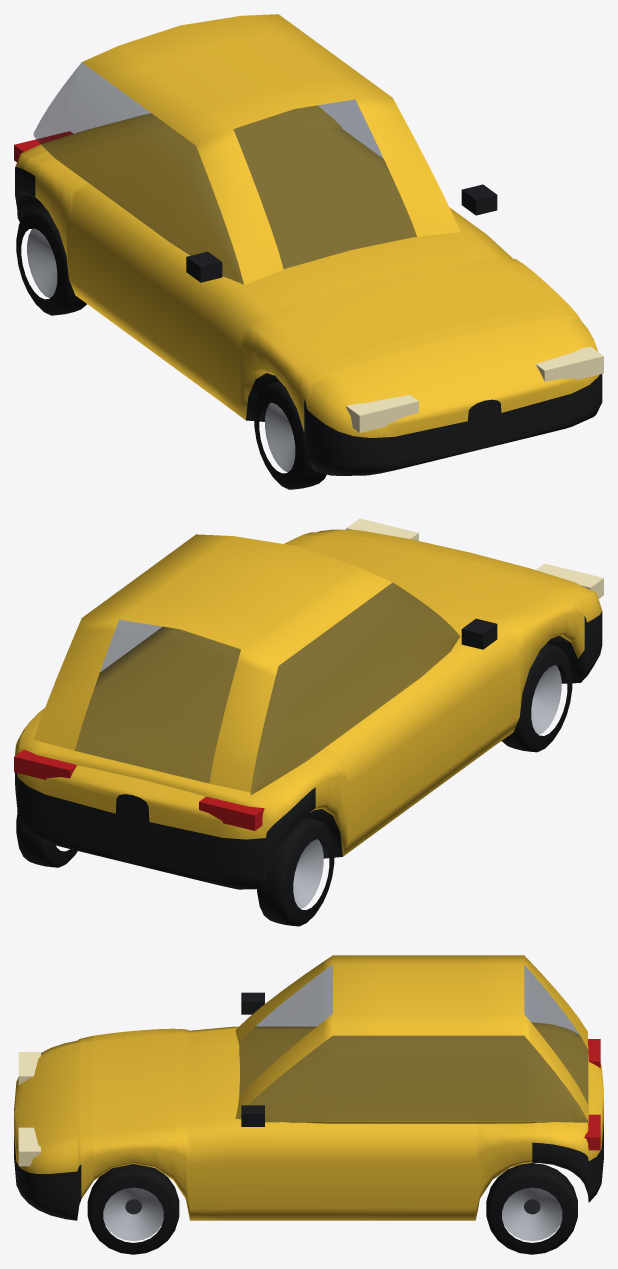
The model's file is desktop.glb.
The picture shows the model from 3 angles, top to bottom: view 1: azimuth 30°, elevation 25°; view 2: azimuth 150°, elevation 25°; view 3: azimuth 270°, elevation 25°; orthographic projection. The views are drawn at different scales.
Parts seen in each view (by area): view 1: body, glass, tyre_rr, tyre_fr, light_head_r, light_head_l, rim_rr, rim_fr; view 2: body, glass, tyre_rr, tyre_fr, rim_fr, rim_rr, light_brake_r, tyre_rl, light_brake_l, light_head_r, light_head_l; view 3: body, glass, tyre_rl, tyre_fl, rim_rl, rim_fl, light_head_l, light_head_r, light_brake_l.
Boxes of the visible parts, bbox=[...] form: body: bbox=[15, 14, 602, 475]; glass: bbox=[33, 62, 416, 284]; tyre_rr: bbox=[16, 206, 86, 315]; tyre_fr: bbox=[254, 381, 326, 489]; light_head_r: bbox=[346, 395, 418, 432]; light_head_l: bbox=[536, 346, 603, 381]; rim_rr: bbox=[27, 228, 57, 298]; rim_fr: bbox=[265, 402, 295, 472]; body: bbox=[15, 529, 602, 889]; glass: bbox=[75, 582, 460, 794]; tyre_rr: bbox=[257, 816, 334, 926]; tyre_fr: bbox=[502, 643, 572, 752]; rim_fr: bbox=[531, 665, 561, 734]; rim_rr: bbox=[293, 839, 323, 908]; light_brake_r: bbox=[199, 796, 264, 830]; tyre_rl: bbox=[16, 815, 77, 867]; light_brake_l: bbox=[14, 749, 76, 779]; light_head_r: bbox=[536, 563, 603, 598]; light_head_l: bbox=[346, 518, 418, 540]; body: bbox=[14, 955, 603, 1220]; glass: bbox=[236, 964, 587, 1122]; tyre_rl: bbox=[486, 1163, 577, 1254]; tyre_fl: bbox=[87, 1164, 179, 1254]; rim_rl: bbox=[502, 1187, 562, 1241]; rim_fl: bbox=[103, 1187, 163, 1241]; light_head_l: bbox=[18, 1127, 40, 1166]; light_head_r: bbox=[18, 1052, 40, 1085]; light_brake_l: bbox=[584, 1114, 600, 1150].
Size of what is drawn, in the model's own units: 1.8 by 1.5 by 3.7.
